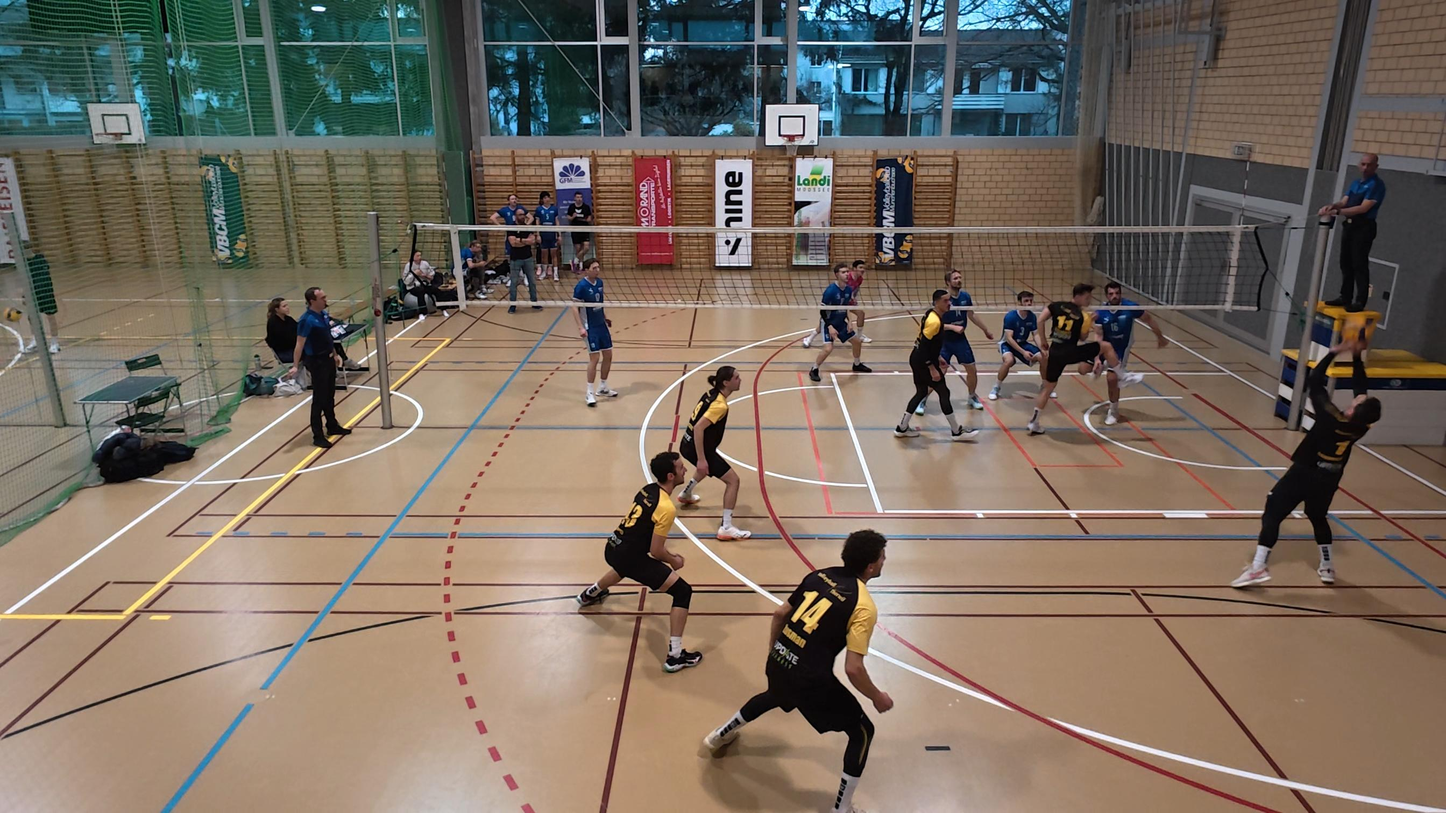difesa: (1227, 276, 1394, 606)
